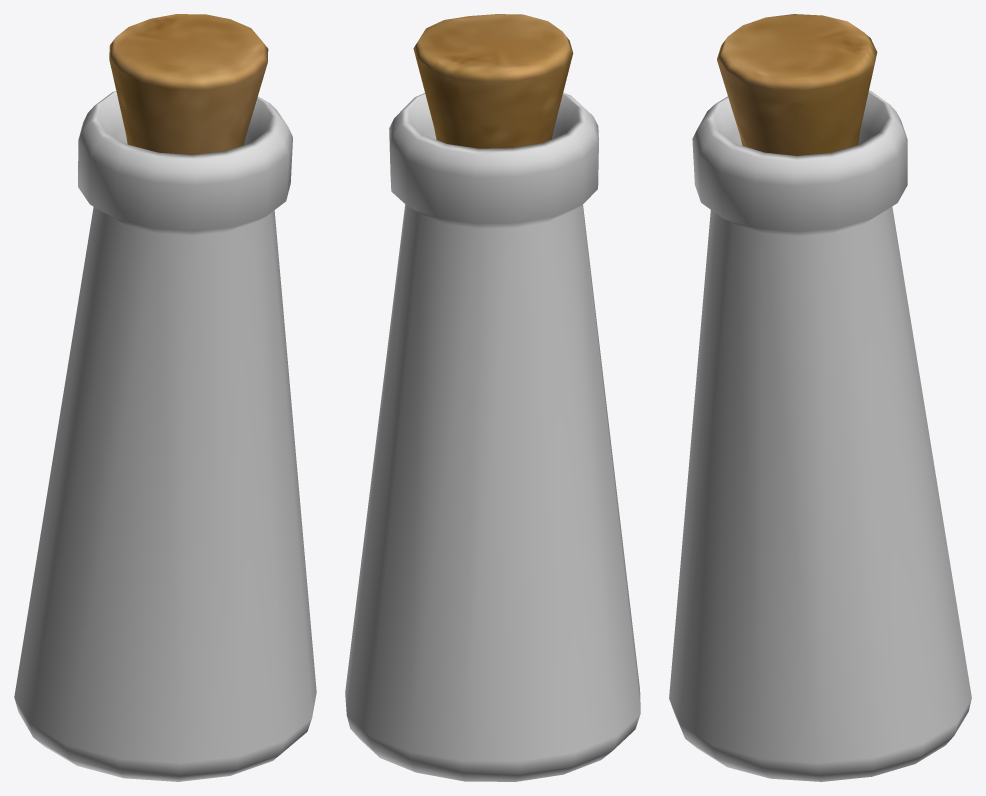
3 views of the same model, side by side, from view 1: azimuth 30°, elevation 25°; view 2: azimuth 150°, elevation 25°; view 3: azimuth 270°, elevation 25° (orthographic).
Visible parts, largest first — view 1: SM_Lightning_Bottle_LOD0; view 2: SM_Lightning_Bottle_LOD0; view 3: SM_Lightning_Bottle_LOD0.
Boxes of the visible parts, x1=… form: SM_Lightning_Bottle_LOD0: x1=14, y1=14, x2=316, y2=781; SM_Lightning_Bottle_LOD0: x1=345, y1=14, x2=640, y2=781; SM_Lightning_Bottle_LOD0: x1=669, y1=14, x2=971, y2=781.
Size of the model in its own units: 0.1175 by 0.2957 by 0.1174.
Materials: 2 (1 with a texture image).
